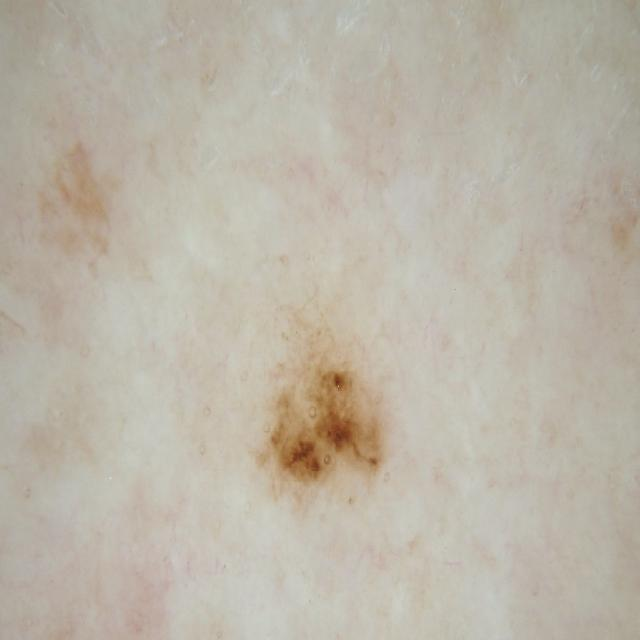Melanoma: (215, 267, 445, 605)
